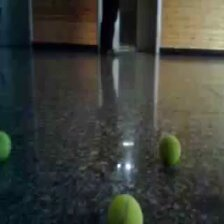tennis: (104, 191, 143, 224), (158, 134, 182, 168)
